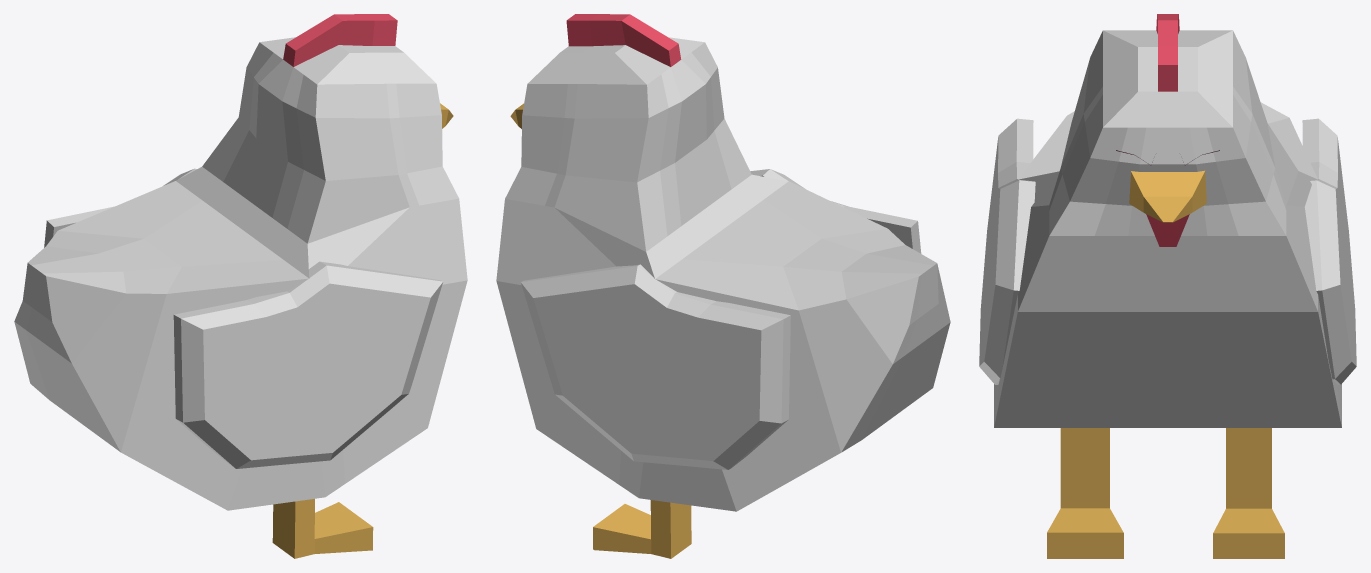
File: Chicken.fbx
3 views of the same model, side by side, from view 1: azimuth 30°, elevation 25°; view 2: azimuth 150°, elevation 25°; view 3: azimuth 270°, elevation 25° (orthographic). The views are drawn at different scales.
Visible parts, largest first — view 1: Cube.001; view 2: Cube.001; view 3: Cube.001.
Part boxes in pixels (x1=…): Cube.001: x1=14, y1=14, x2=467, y2=558; Cube.001: x1=496, y1=14, x2=950, y2=558; Cube.001: x1=979, y1=14, x2=1356, y2=558.
Bounding box in the file's own units: 103 × 116 × 72.53.
